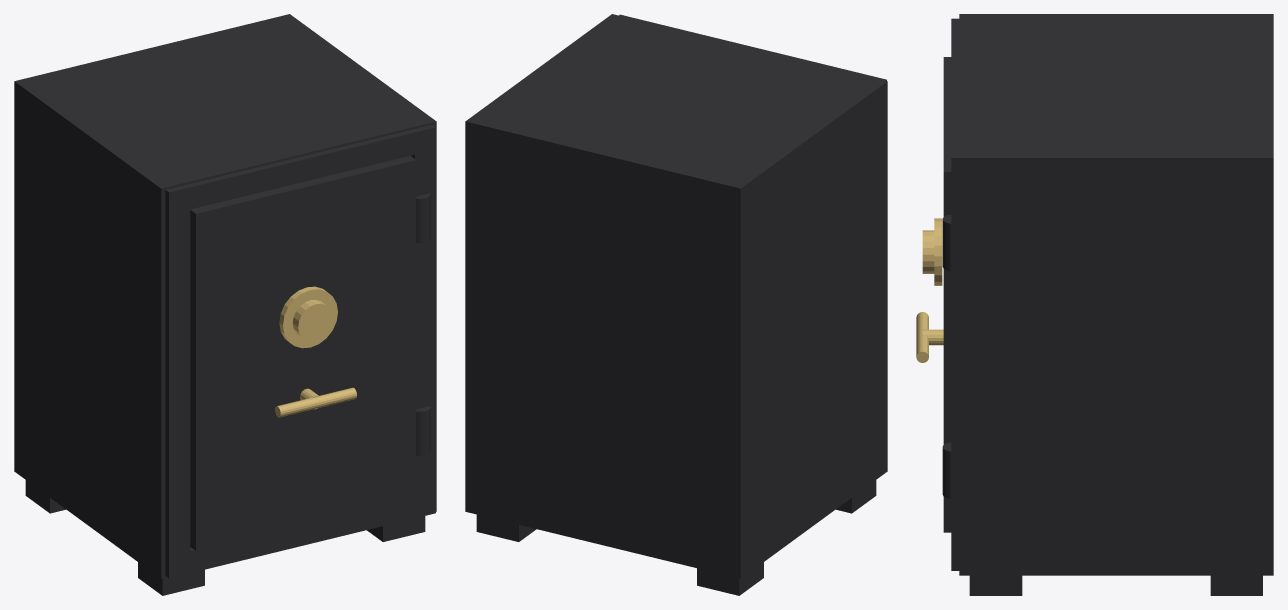
Rendered from SM_Furniture_Safe_01.glb.
The picture shows the model from 3 angles, left to right: view 1: azimuth 30°, elevation 25°; view 2: azimuth 150°, elevation 25°; view 3: azimuth 270°, elevation 25°; orthographic projection. The views are drawn at different scales.
Parts seen in each view (by area): view 1: SM_Furniture_Safe_01; view 2: SM_Furniture_Safe_01; view 3: SM_Furniture_Safe_01.
Boxes of the visible parts, x1,y1,x2,y2 form: SM_Furniture_Safe_01: (14, 14, 436, 595); SM_Furniture_Safe_01: (465, 14, 887, 595); SM_Furniture_Safe_01: (916, 14, 1273, 595).
Bounding box in the file's own units: 0.65 × 0.93 × 0.682.
